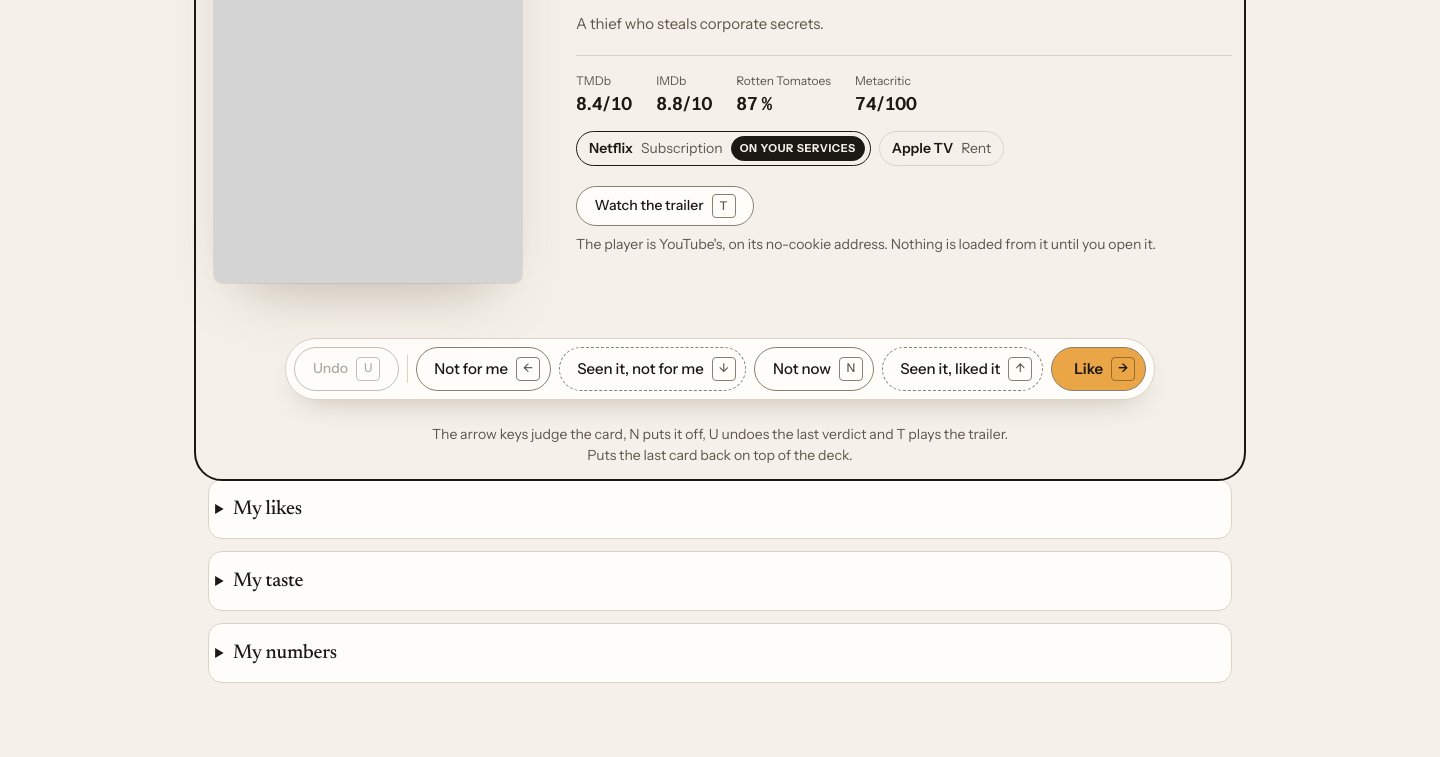
Test: what sits around the deck › shows the taste profile and keeps what the user writes
(page scrolled)
Step 1. Click the heading "My taste" → point(268, 581), box left=233, top=571, right=303, bottom=591
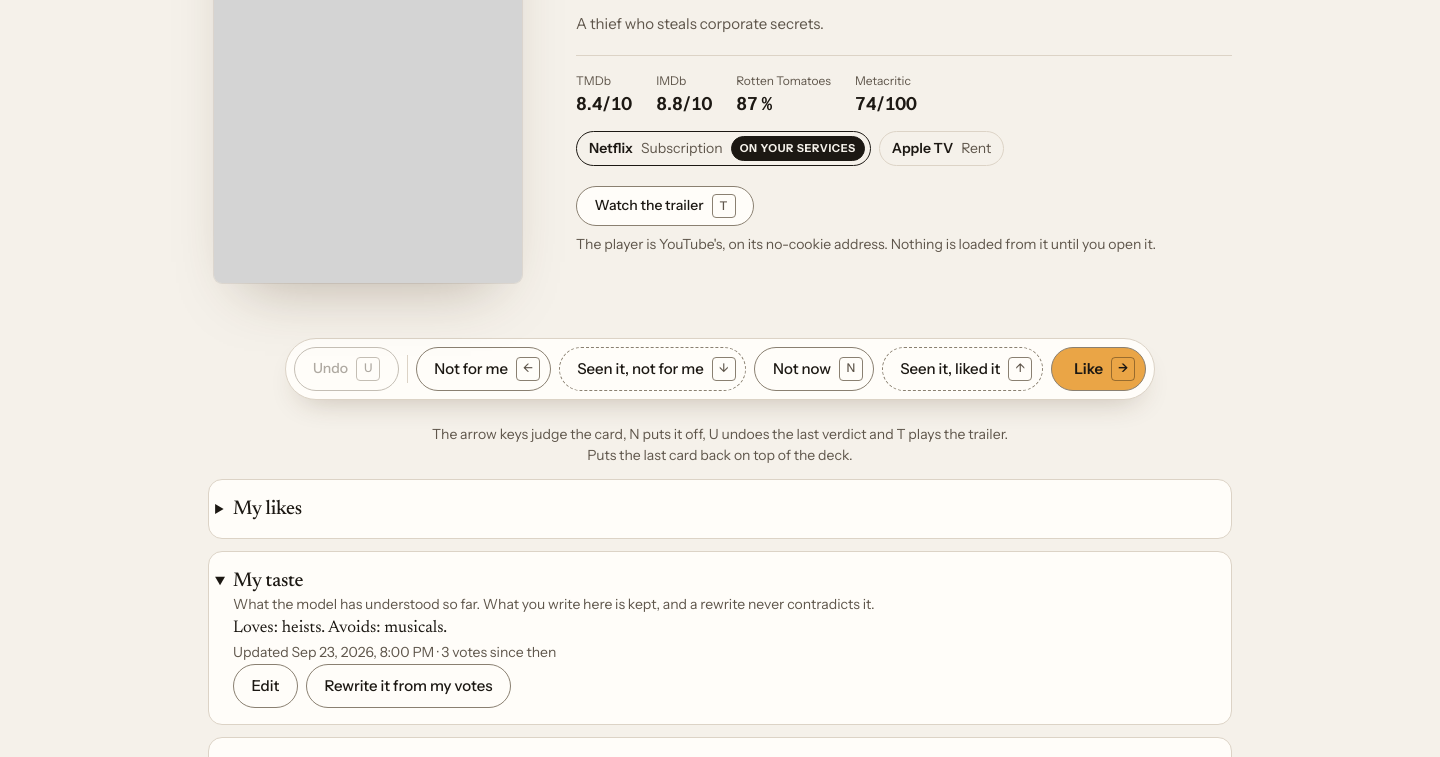
Result: the text "Loves: heists. Avoids: musicals." is shown at left=233, top=620, right=447, bottom=637
Step 2. Click the button "Edit" → point(265, 686), box left=233, top=664, right=298, bottom=708
(page scrolled)
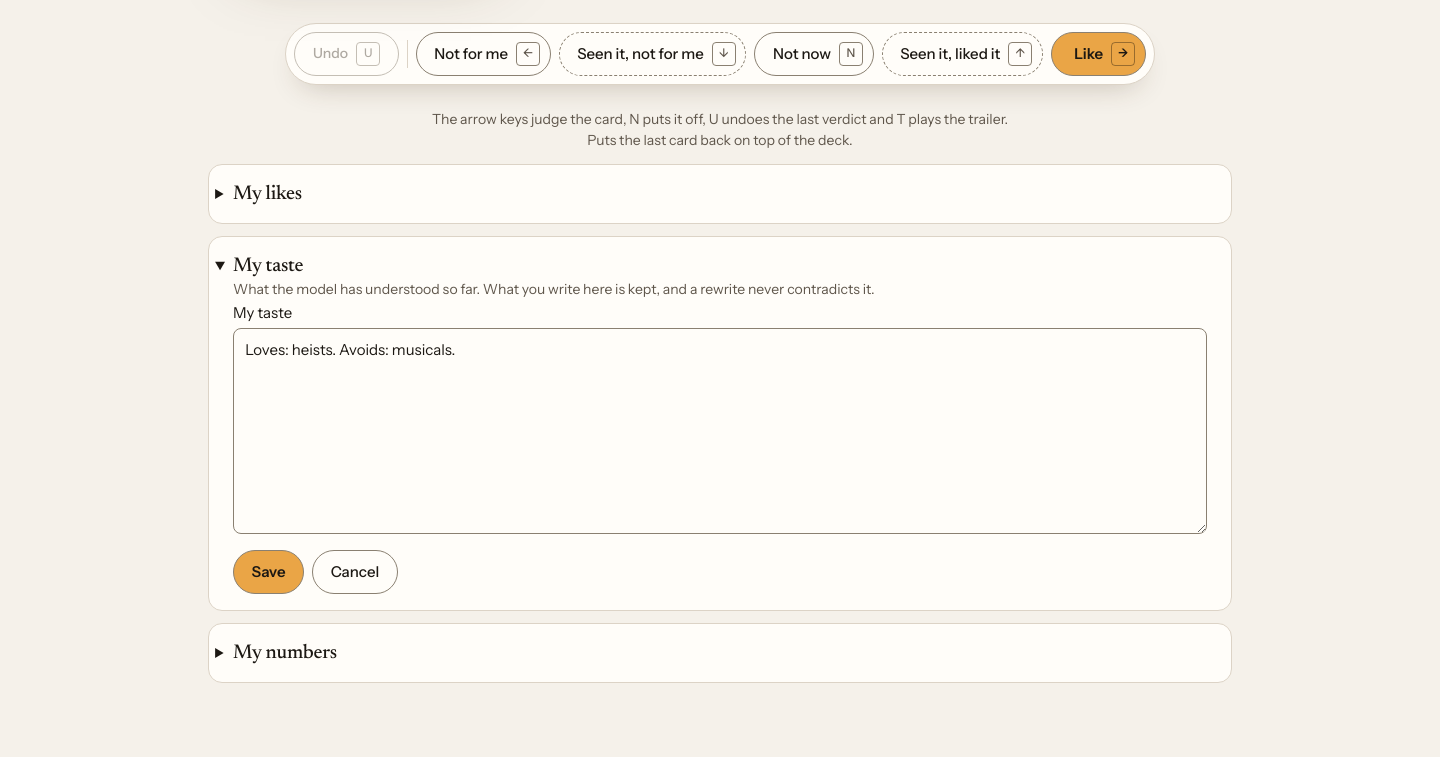
Step 3. Replace the text in the text box with "No musicals, ever." → point(720, 431), box left=233, top=328, right=1207, bottom=534
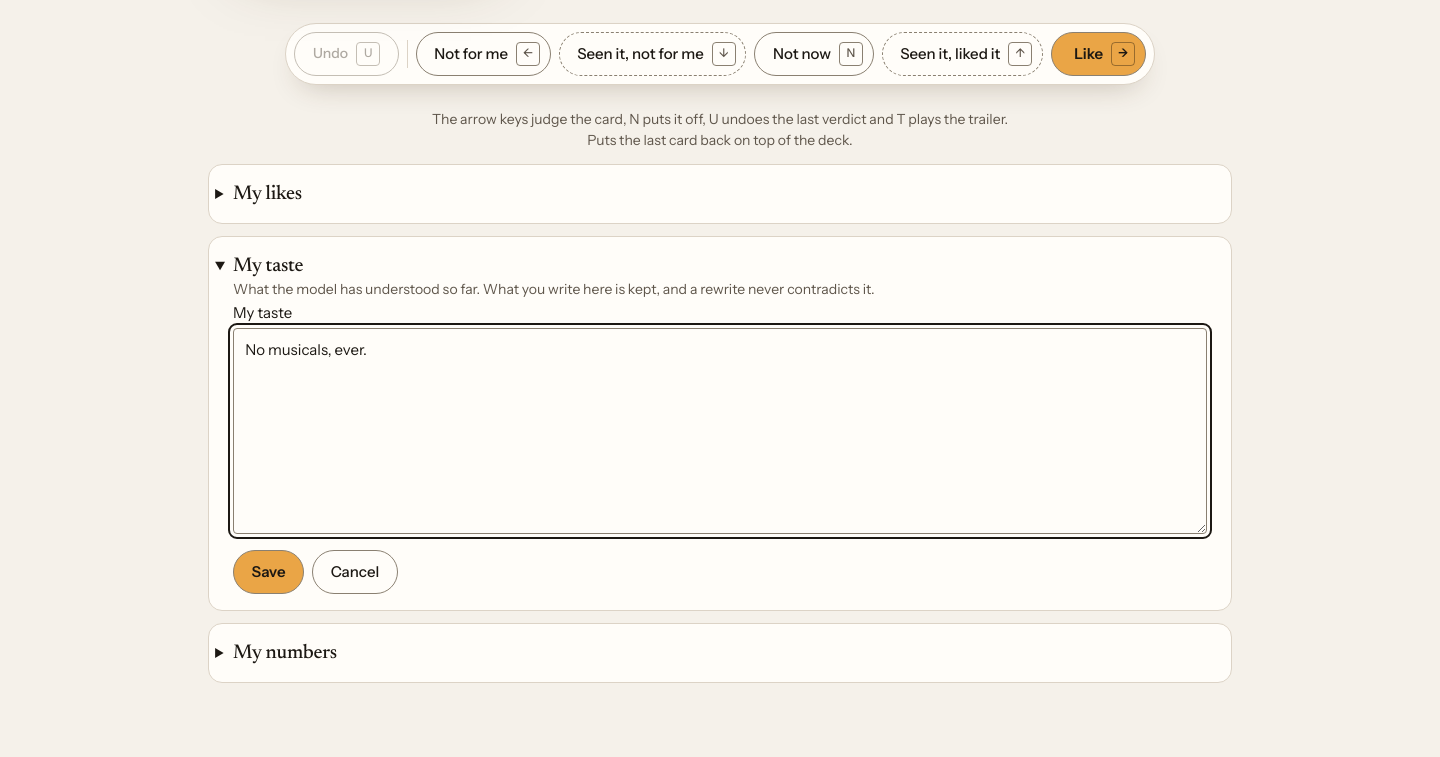
Step 4. Click the button "Save" → point(268, 572), box left=233, top=550, right=304, bottom=594
(page scrolled)
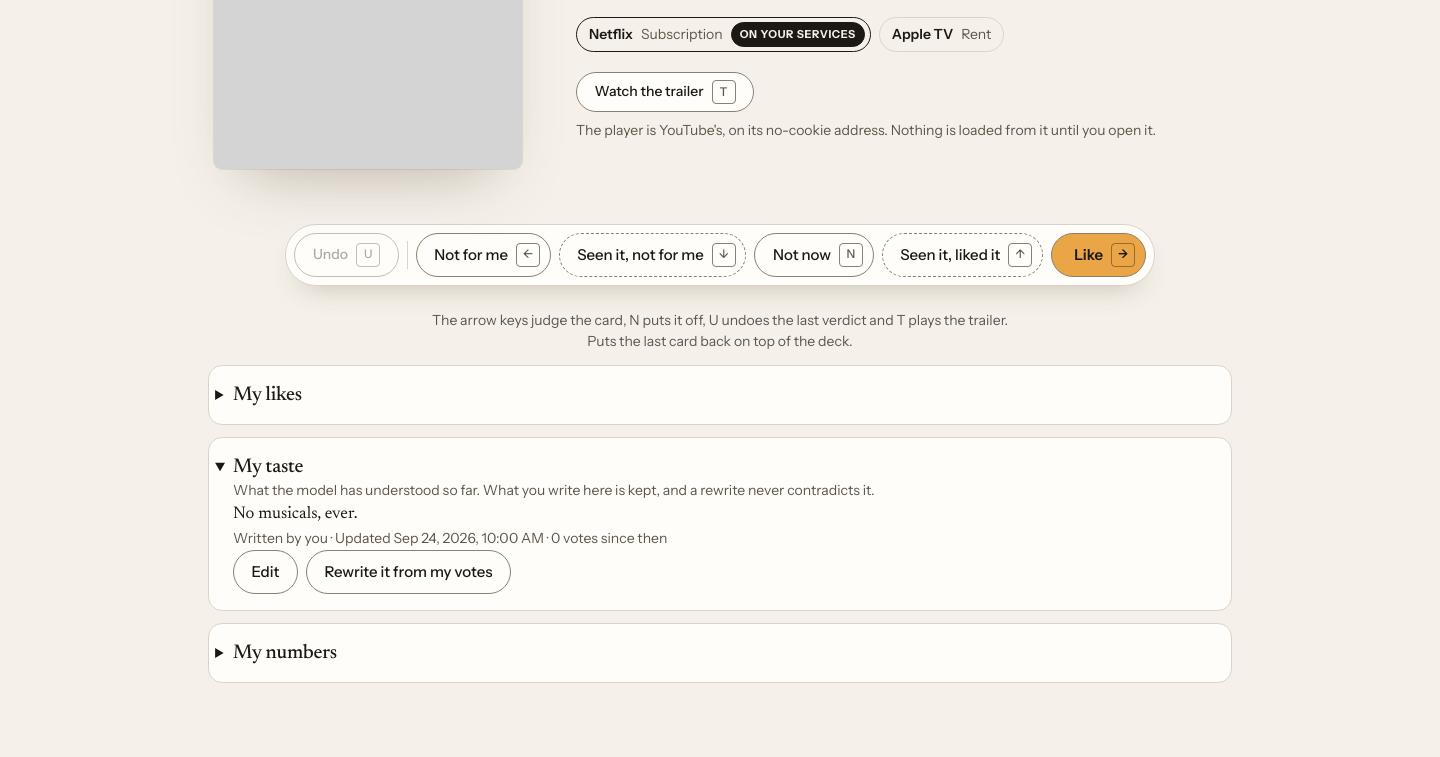
Result: the text "No musicals, ever." is shown at left=233, top=506, right=358, bottom=523
Result: the text "Written by you" is shown at left=233, top=529, right=335, bottom=547
